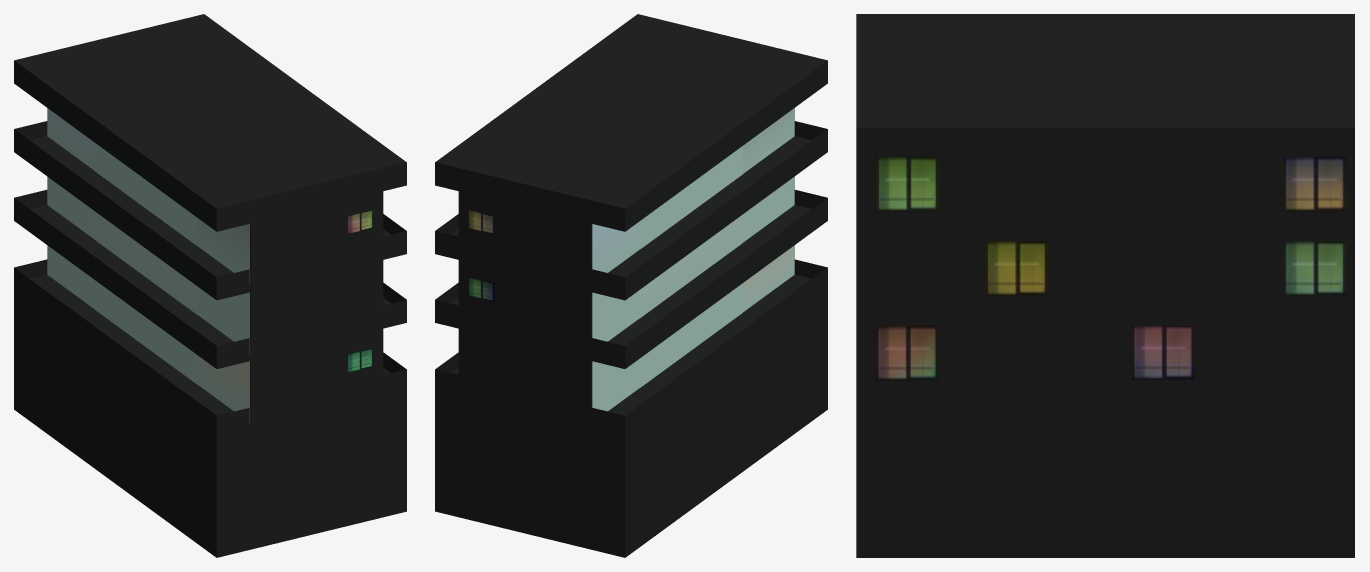
Rendered from AMB_APART01.glb.
The picture shows the model from 3 angles, left to right: view 1: azimuth 30°, elevation 25°; view 2: azimuth 150°, elevation 25°; view 3: azimuth 270°, elevation 25°; orthographic projection. The views are drawn at different scales.
Parts seen in each view (by area): view 1: BASE; view 2: BASE; view 3: BASE.
Part boxes in pixels (x1,y1,x2,y2): BASE: [14, 14, 406, 557]; BASE: [435, 14, 827, 557]; BASE: [856, 14, 1354, 557].
Bounding box in the file's own units: 48.15 × 84.55 × 89.06.
Materials: 4 (4 with a texture image).
